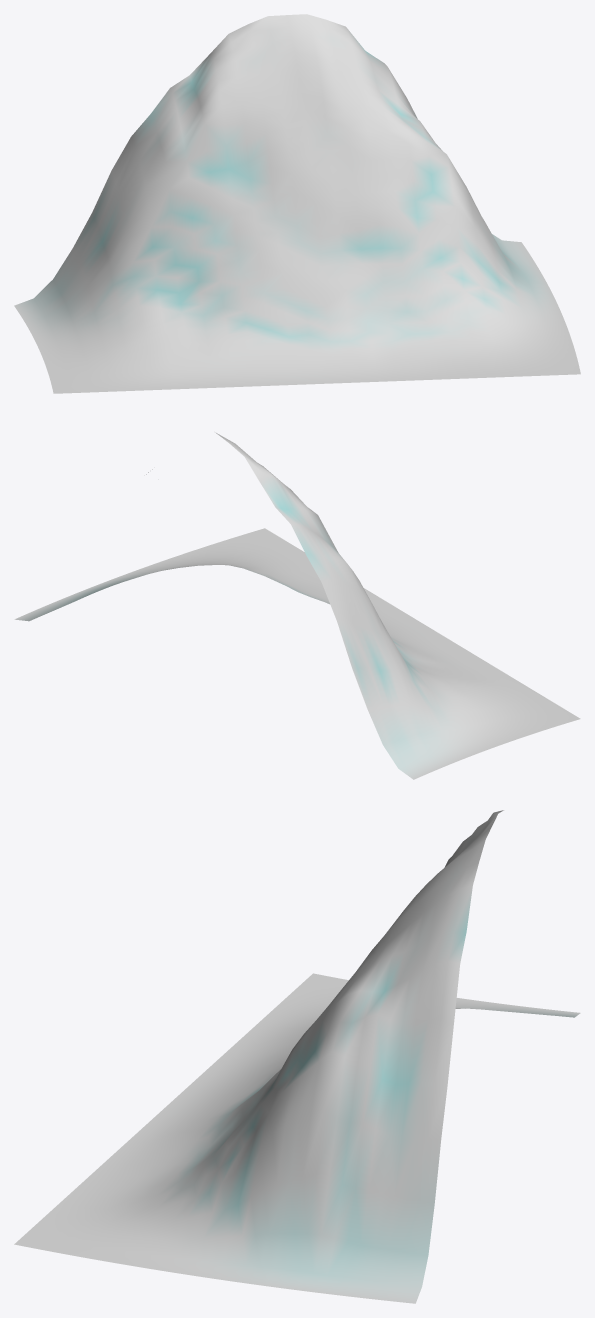
Rendered from near_19.glb.
3 views of the same model, one above another, from view 1: azimuth 30°, elevation 25°; view 2: azimuth 150°, elevation 25°; view 3: azimuth 270°, elevation 25° (orthographic). The views are drawn at different scales.
Parts seen in each view (by area): view 1: Mountain; view 2: Mountain; view 3: Mountain.
Boxes of the visible parts, left/top/right/bottom form: Mountain: left=14, top=14, right=580, bottom=393; Mountain: left=14, top=432, right=580, bottom=779; Mountain: left=14, top=810, right=580, bottom=1303.
Size of the model in its own units: 387 by 188 by 280.
